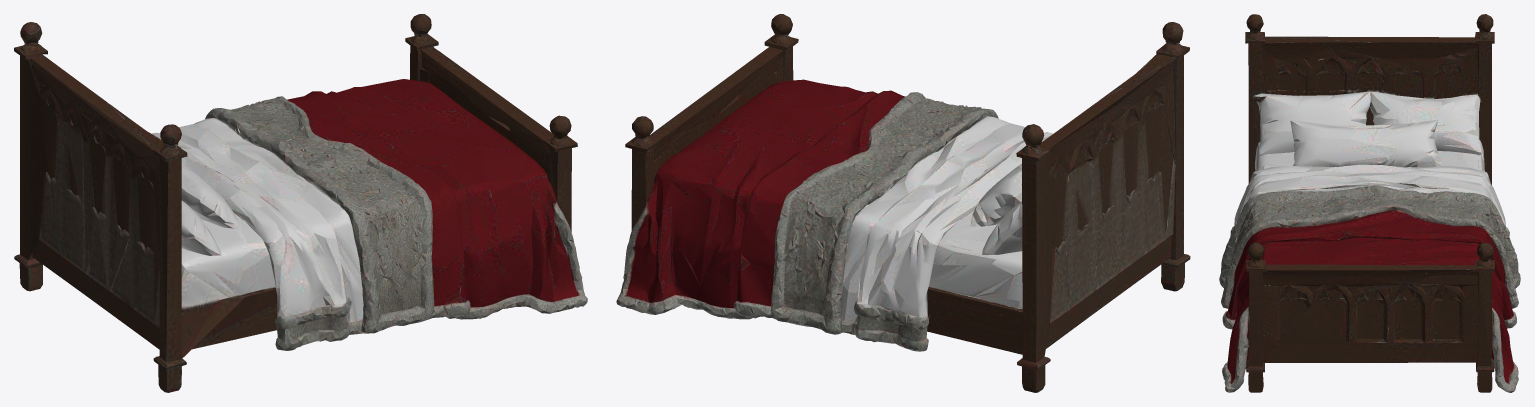
File: bed_carved_merchant.glb
The picture shows the model from 3 angles, left to right: view 1: azimuth 30°, elevation 25°; view 2: azimuth 150°, elevation 25°; view 3: azimuth 270°, elevation 25°; orthographic projection. The views are drawn at different scales.
Visible parts, largest first — view 1: bed_carved_merchant; view 2: bed_carved_merchant; view 3: bed_carved_merchant.
Part boxes in pixels (x1,y1,x2,y2): bed_carved_merchant: (14,14,587,392); bed_carved_merchant: (616,14,1190,392); bed_carved_merchant: (1219,14,1520,392).
Size of the model in its own units: 2.15 by 1.32 by 1.65.
1 material, 1 textured.
